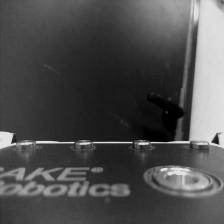Door Handle: (148, 88, 186, 132)
